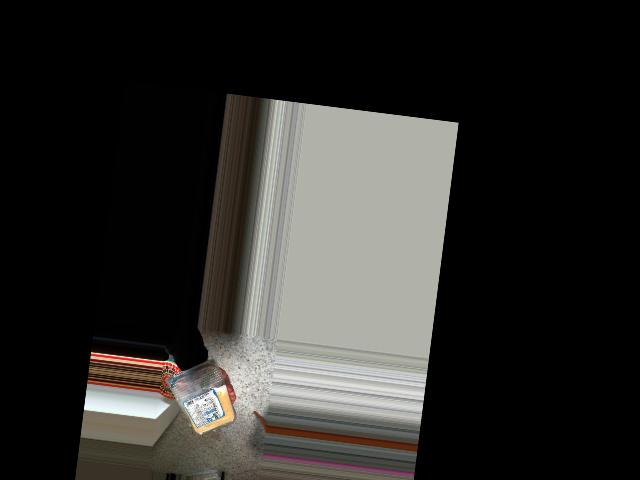cheese: (166, 361, 236, 440)
